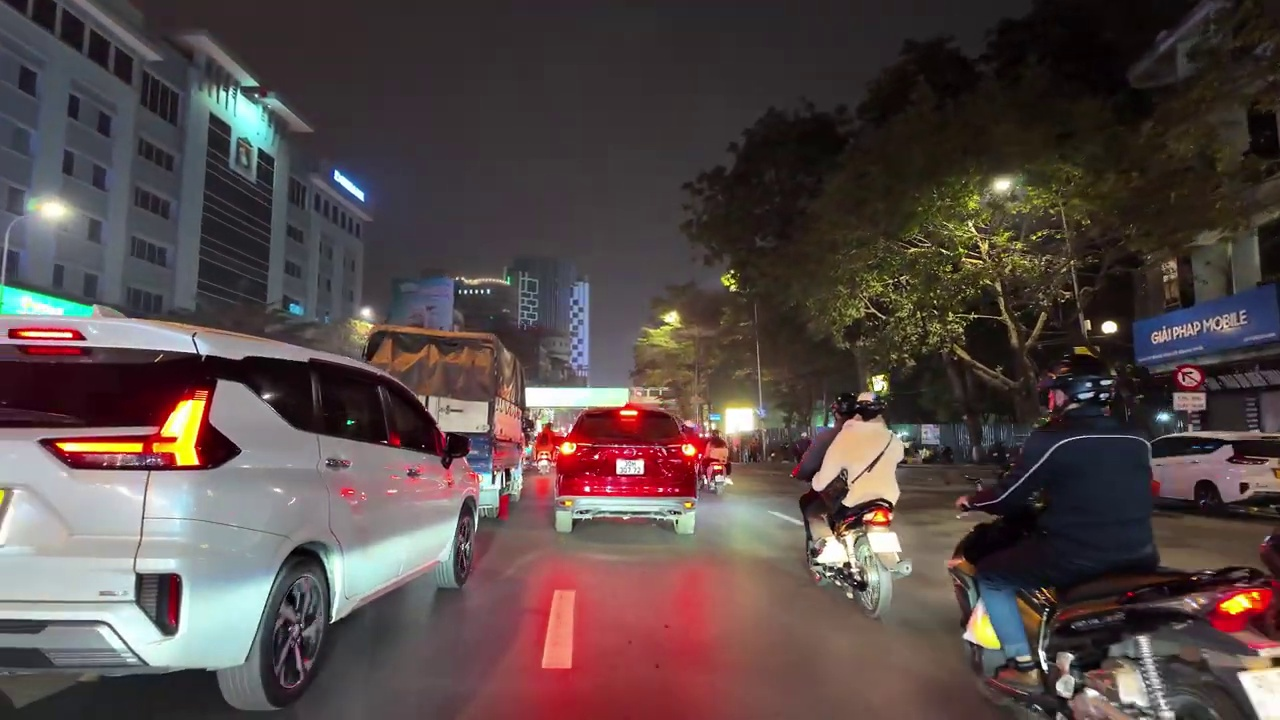acesa: (36, 198, 71, 224)
